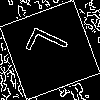L: (25, 25, 78, 69)
